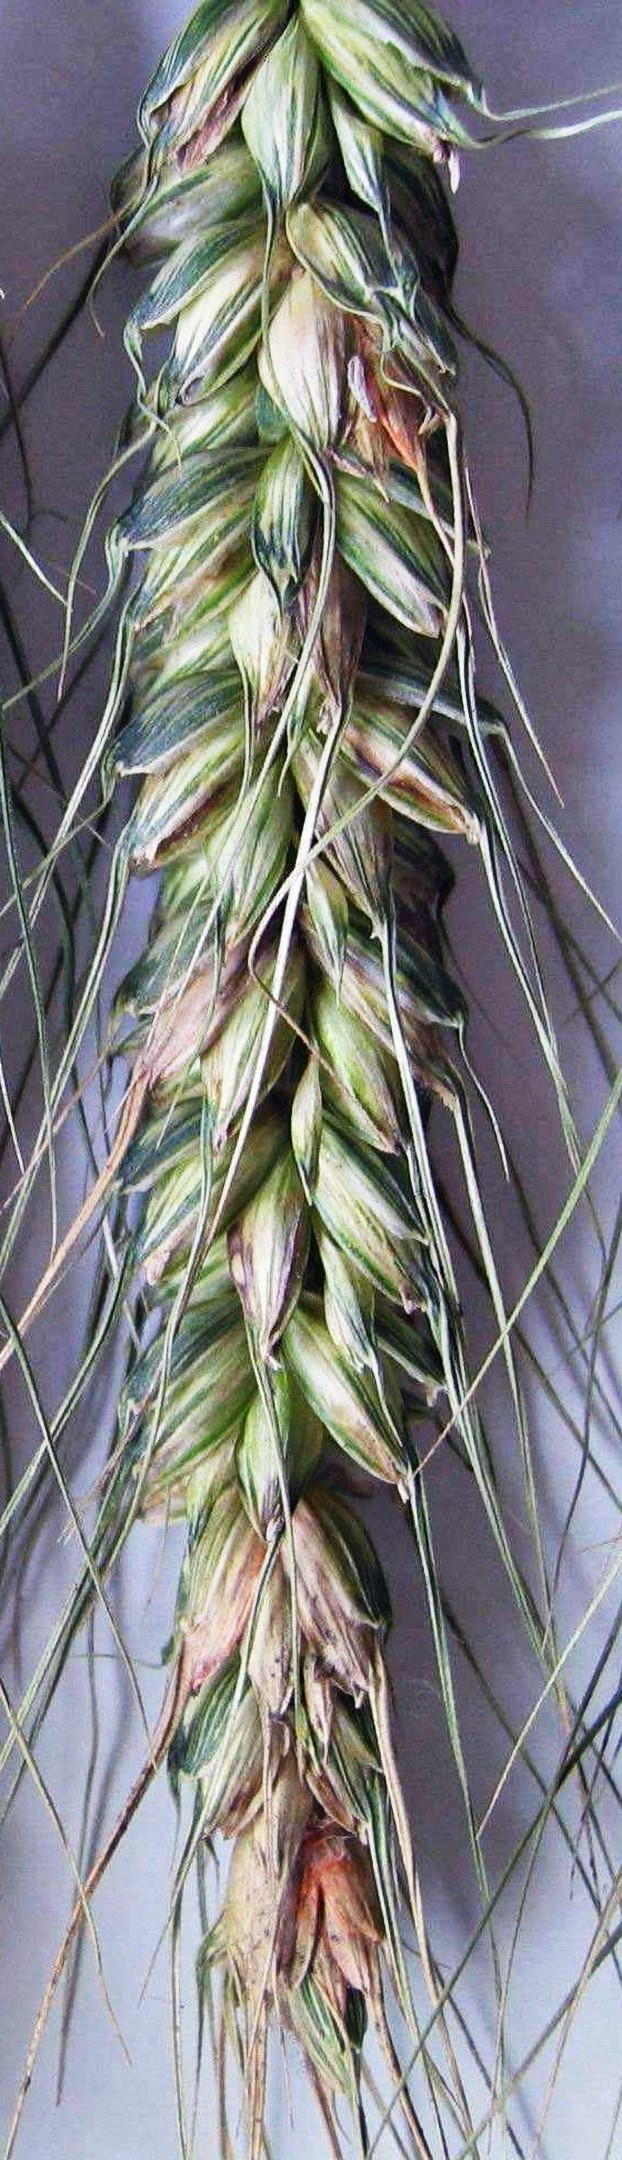Wheat scab: (52, 26, 535, 2088)
